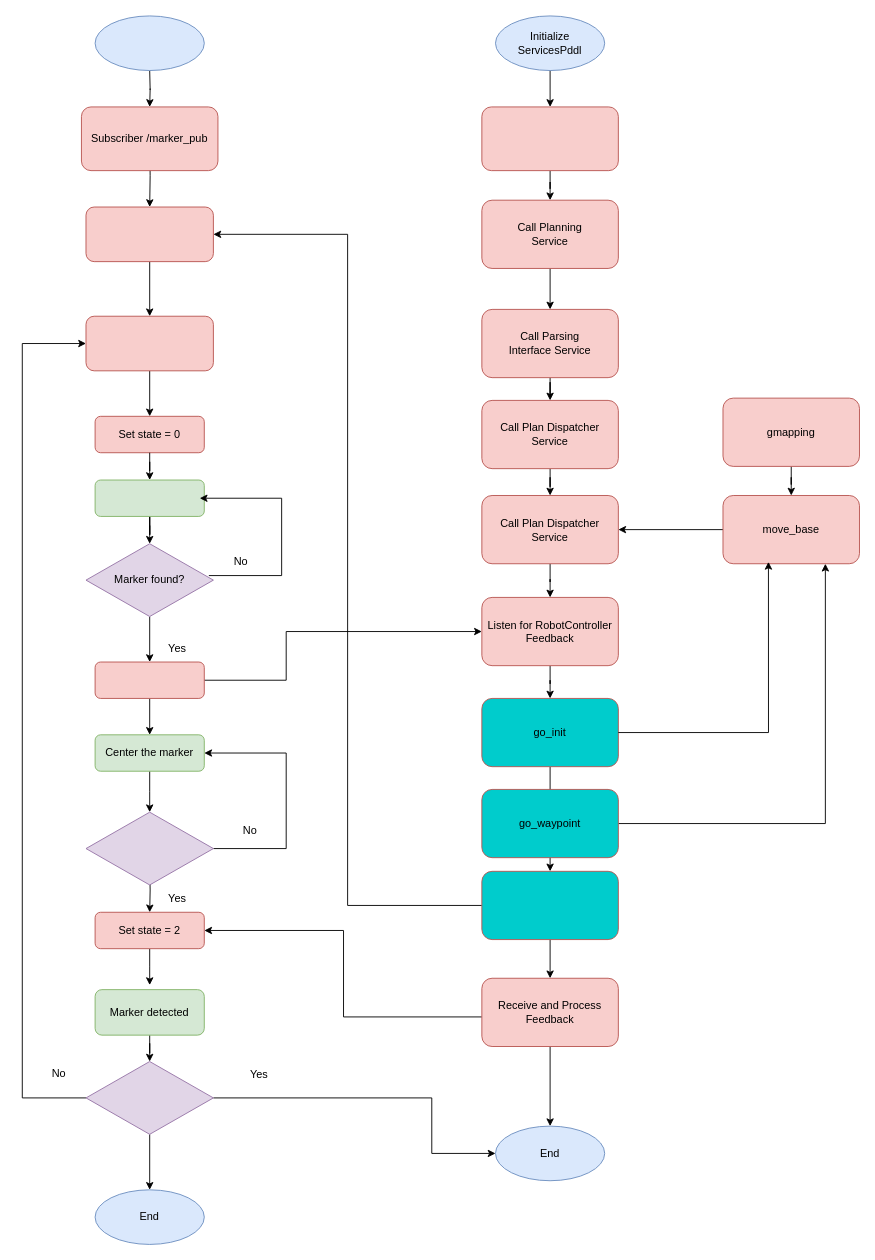
Image size: 875x1260. Some labels were removed from this diagram. Each missing label, with the centre of its shape:
"Activate Action Server /reaching_goal_marker" goes at point 149,234.
"Call Problem Generation Service" goes at point 549,138.
"Last marker?" goes at point 149,1097.
"Marker centered?" goes at point 149,848.
"marker_action" goes at point 549,905.
"Receive Goal target_marker" goes at point 149,343.
"Rotate robot" goes at point 149,497.
"Set state = 1" goes at point 149,679.
"Start action" goes at point 149,43.
